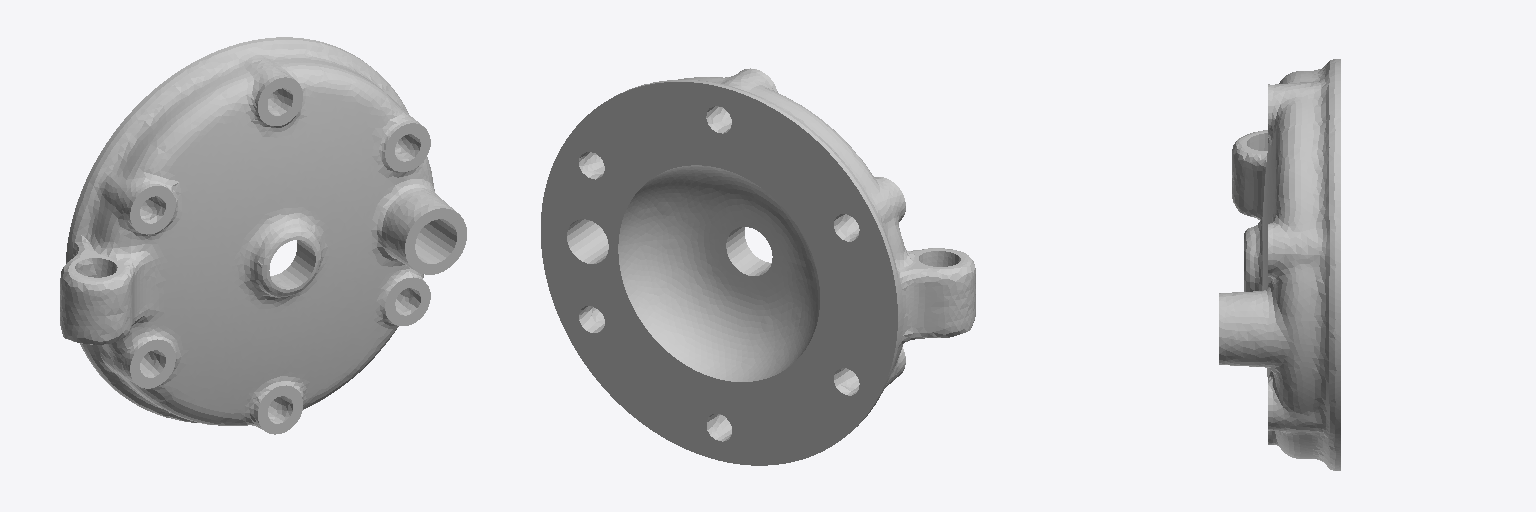
File: mnf07HeadFem_rem_rem_p.obj
3 renders of one model, left to right at view 1: azimuth 30°, elevation 25°; view 2: azimuth 150°, elevation 25°; view 3: azimuth 270°, elevation 25°, orthographic.
Size of the model in its own units: 119 by 108 by 31.75.